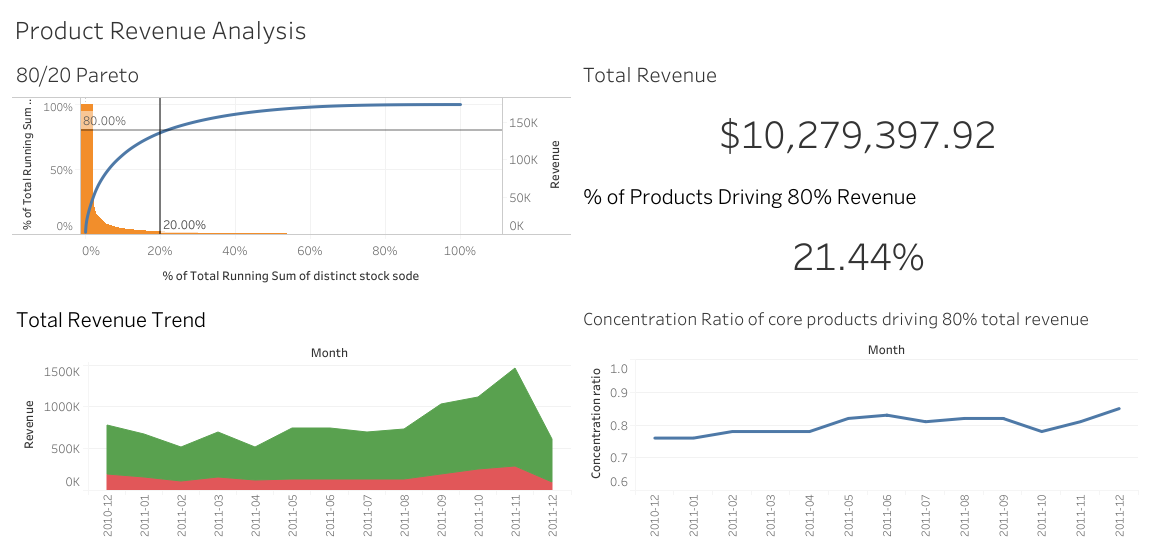

What the dashboard file says about the page in this screenshot:
{"tool":"tableau","page":{"name":"Dashboard 1","canvas":[1150,550],"ordinal":0},"visuals":[{"type":"title","box":[8,8,1134,42]},{"type":"worksheet","title":"80/20 Pareto","mark":"Bar","rows":["revenue"],"cols":["StockCode"],"box":[8,50,567,246]},{"type":"worksheet","title":"Sheet 2","mark":"Text","box":[575,50,567,123]},{"type":"worksheet","title":"Sheet 3","mark":"Text","box":[575,173,567,123]},{"type":"worksheet","title":"Sheet 4","mark":"Area","rows":["Revenue"],"cols":["Month"],"box":[8,296,567,246]},{"type":"worksheet","title":"Sheet 5","mark":"Line","rows":["Concentration_ratio"],"cols":["Month"],"box":[575,296,567,246]}]}

Visuals, with their boxes in screenshot pixels (x1, y1, x2, y2), scaled from the page's 1150x550 canvas onto the 1149x549 screenshot:
title: [left=8, top=8, right=1141, bottom=50]
"80/20 Pareto" worksheet (Bar marks): [left=8, top=50, right=574, bottom=295]
"Sheet 2" worksheet (Text marks): [left=574, top=50, right=1141, bottom=173]
"Sheet 3" worksheet (Text marks): [left=574, top=173, right=1141, bottom=295]
"Sheet 4" worksheet (Area marks): [left=8, top=295, right=574, bottom=541]
"Sheet 5" worksheet (Line marks): [left=574, top=295, right=1141, bottom=541]
